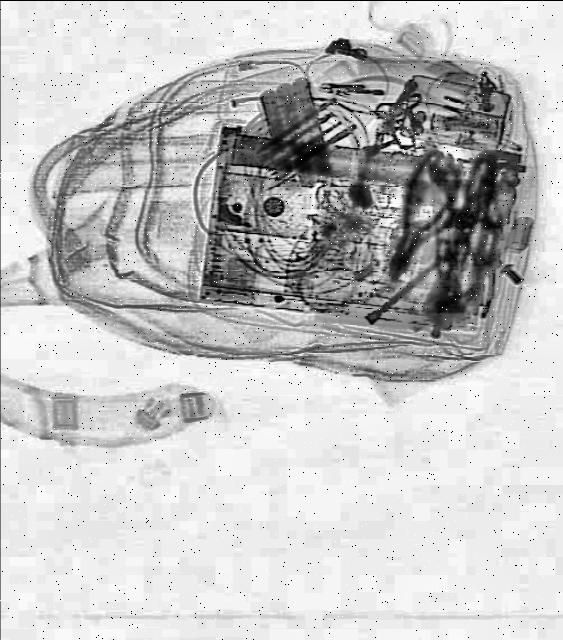Pliers: (368, 144, 470, 286)
